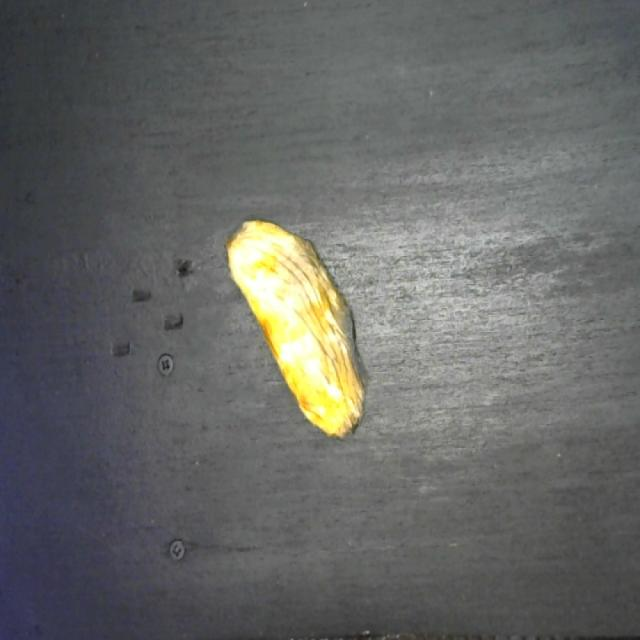biodegradable: (224, 209, 366, 442)
